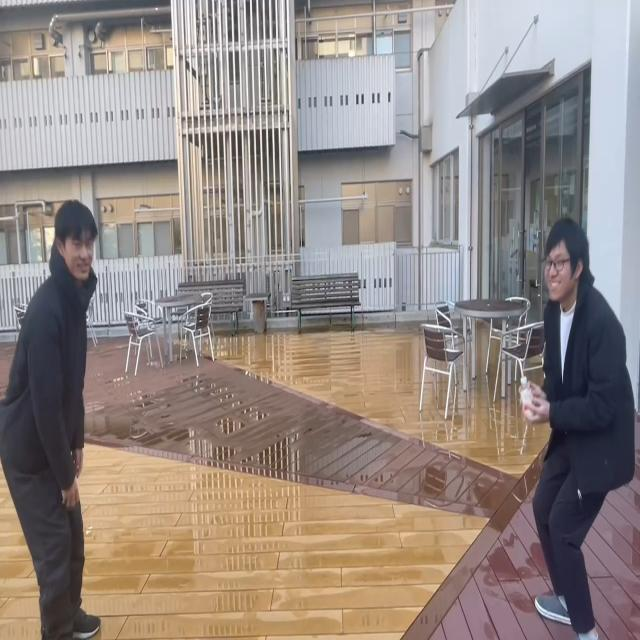bottle: (519, 374, 537, 426)
